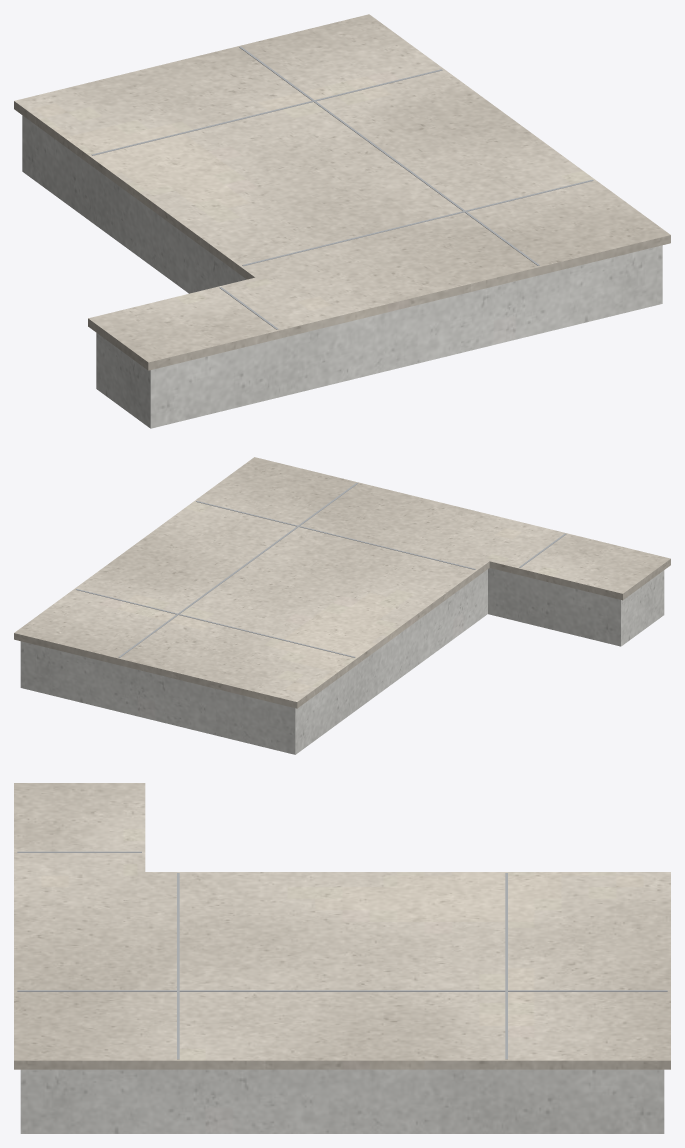
File: floor_terrazzo_u.glb
3 renders of one model, top to bottom at view 1: azimuth 30°, elevation 25°; view 2: azimuth 150°, elevation 25°; view 3: azimuth 270°, elevation 25°, orthographic. The views are drawn at different scales.
Visible parts, largest first — view 1: floor_terrazzo_u_terrazzo, floor_terrazzo_u_plaster, floor_terrazzo_u_steel; view 2: floor_terrazzo_u_terrazzo, floor_terrazzo_u_plaster, floor_terrazzo_u_steel; view 3: floor_terrazzo_u_terrazzo, floor_terrazzo_u_plaster, floor_terrazzo_u_steel.
Part boxes in pixels (left/top/right/bottom): floor_terrazzo_u_terrazzo: left=14, top=14, right=670, bottom=370; floor_terrazzo_u_plaster: left=22, top=115, right=662, bottom=428; floor_terrazzo_u_steel: left=91, top=46, right=593, bottom=329; floor_terrazzo_u_terrazzo: left=14, top=457, right=670, bottom=708; floor_terrazzo_u_plaster: left=20, top=568, right=664, bottom=754; floor_terrazzo_u_steel: left=76, top=483, right=566, bottom=657; floor_terrazzo_u_terrazzo: left=14, top=783, right=670, bottom=1069; floor_terrazzo_u_plaster: left=20, top=1069, right=664, bottom=1133; floor_terrazzo_u_steel: left=17, top=851, right=667, bottom=1059.
Bounding box in the file's own units: 2 × 0.2565 × 2.
3 materials, 2 textured.
